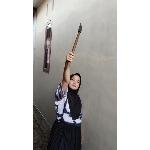Kapak: (66, 20, 86, 70)
